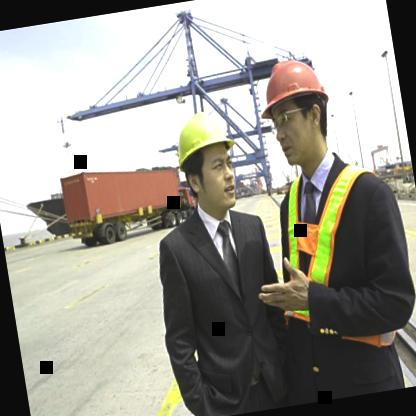helmet: (244, 36, 349, 177), (158, 92, 257, 226)
